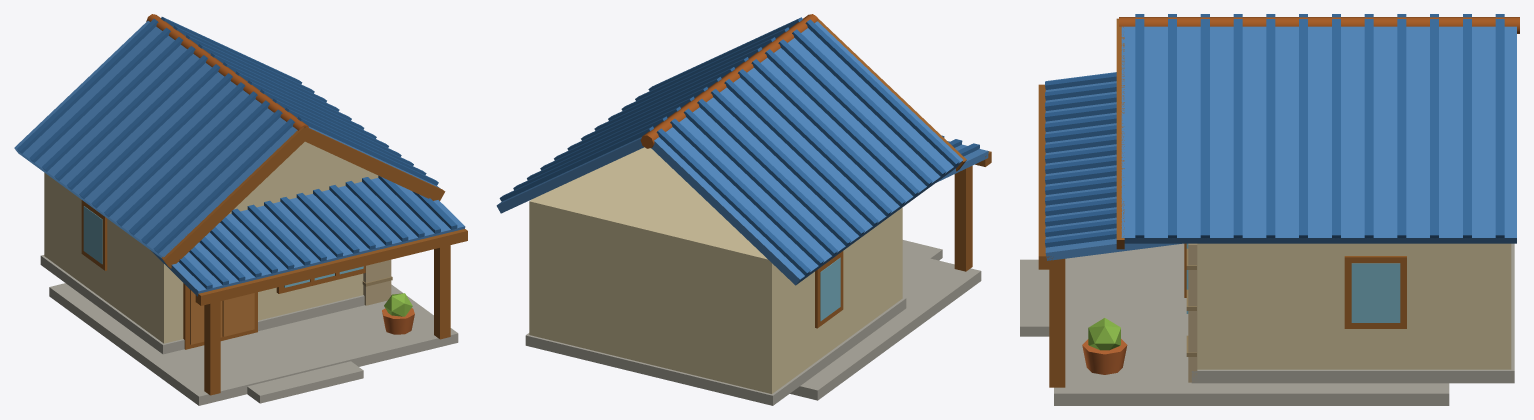
File: house_blue.glb
3 views of the same model, side by side, from view 1: azimuth 30°, elevation 25°; view 2: azimuth 150°, elevation 25°; view 3: azimuth 270°, elevation 25° (orthographic). The views are drawn at different scales.
Visible parts, largest first — view 1: house_mesh; view 2: house_mesh; view 3: house_mesh.
Boxes of the visible parts, x1=… form: house_mesh: x1=14, y1=14, x2=467, y2=405; house_mesh: x1=496, y1=14, x2=991, y2=405; house_mesh: x1=1020, y1=14, x2=1519, y2=405.
Bounding box in the file's own units: 3.81 × 2.99 × 4.43.
